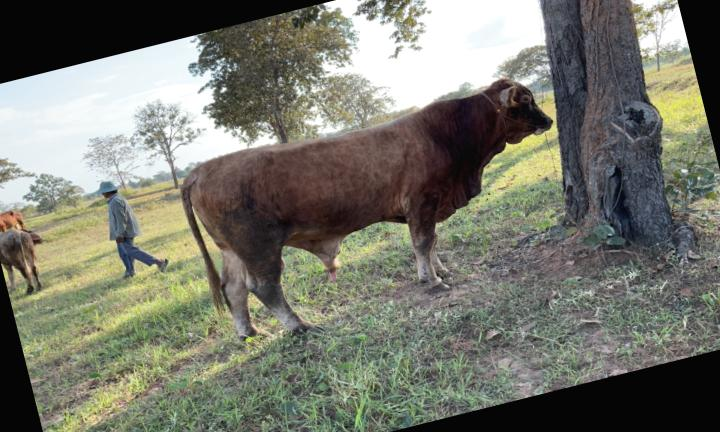Charolais: (181, 78, 552, 337)
